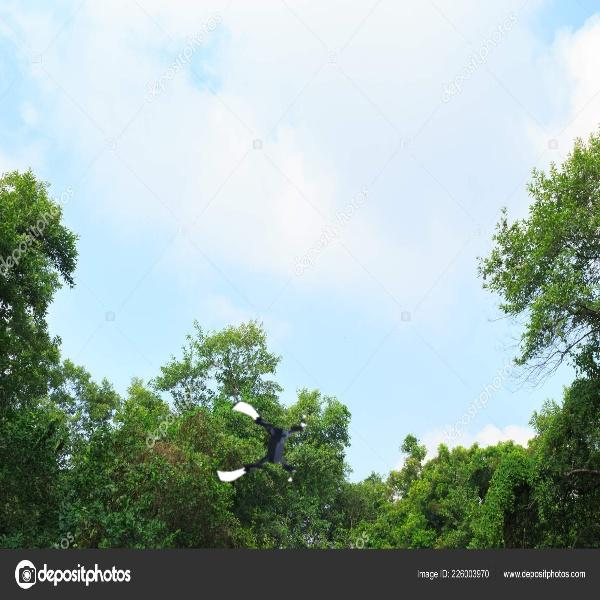drone: (217, 400, 312, 495)
